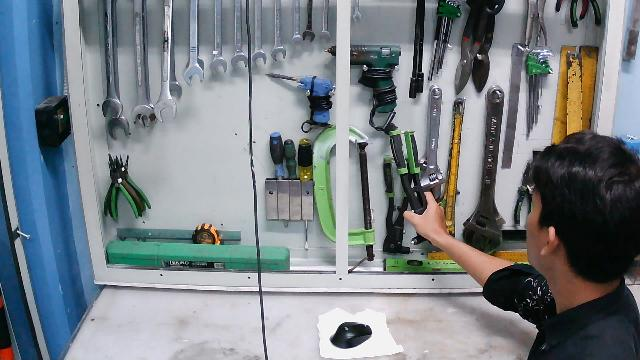tang_rivet: (389, 129, 434, 246)
